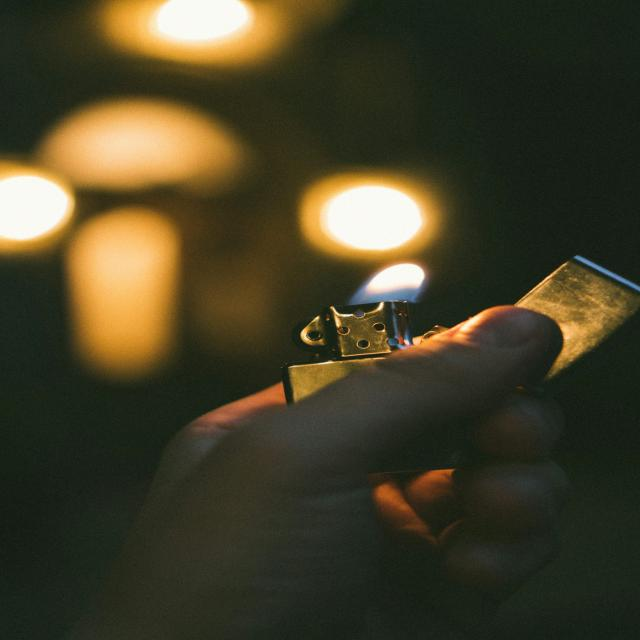fire: (352, 262, 425, 304)
